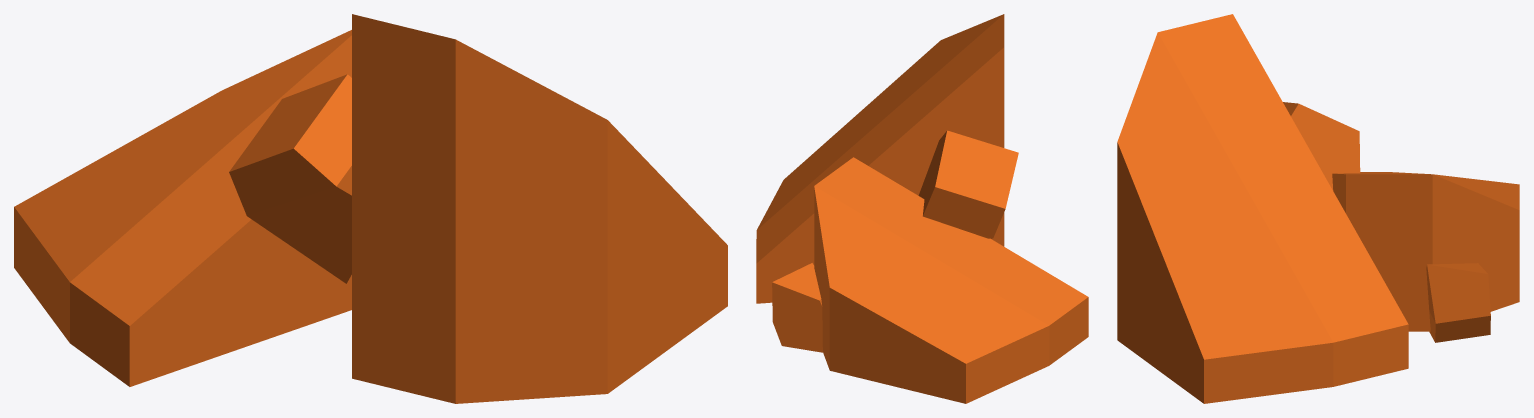
File: Rock03.glb
The picture shows the model from 3 angles, left to right: view 1: azimuth 30°, elevation 25°; view 2: azimuth 150°, elevation 25°; view 3: azimuth 270°, elevation 25°; orthographic projection. The views are drawn at different scales.
Parts seen in each view (by area): view 1: Rock_Type5_03_mesh; view 2: Rock_Type5_03_mesh; view 3: Rock_Type5_03_mesh.
Part boxes in pixels (x1=…): Rock_Type5_03_mesh: x1=14, y1=14, x2=727, y2=403; Rock_Type5_03_mesh: x1=756, y1=14, x2=1088, y2=403; Rock_Type5_03_mesh: x1=1117, y1=14, x2=1519, y2=403.
Size of the model in its own units: 2.17 by 1.44 by 1.96.
